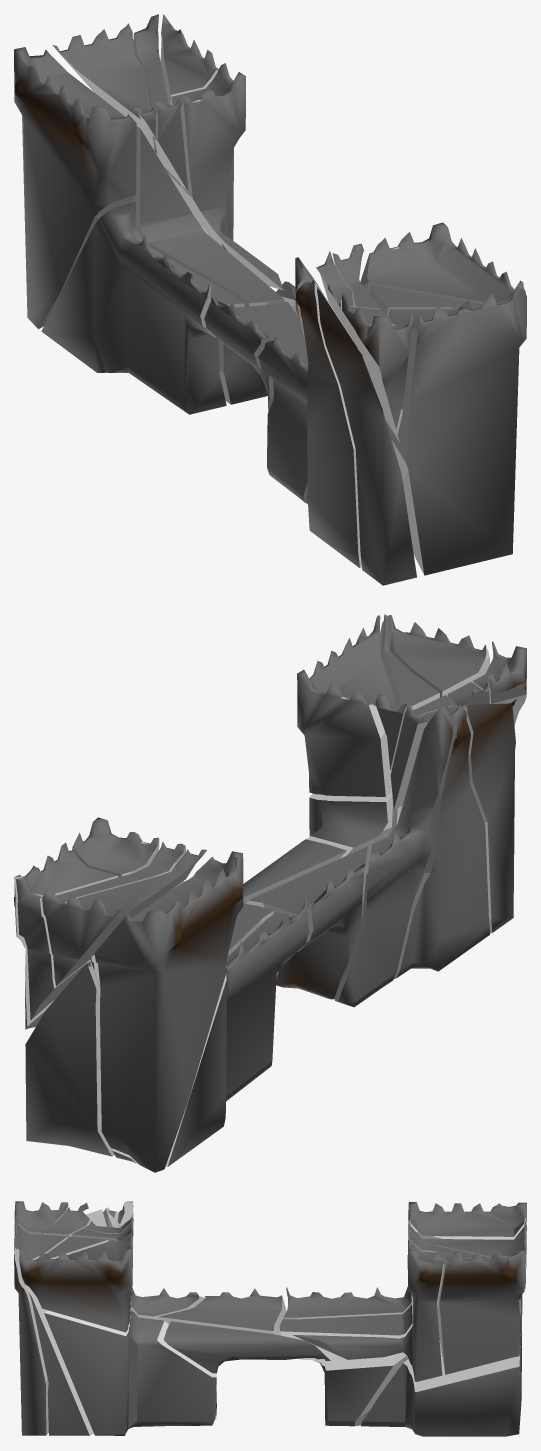
The model's file is Medieval Walls.glb.
3 views of the same model, one above another, from view 1: azimuth 30°, elevation 25°; view 2: azimuth 150°, elevation 25°; view 3: azimuth 270°, elevation 25° (orthographic). The views are drawn at different scales.
Visible parts, largest first — view 1: id0.019, id0.010, id0, id0.012, id0.005, id0.002, id0.017, id0.014, id0.018, id0.001, id0.007, id0.011 (+6 smaller); view 2: id0, id0.010, id0.002, id0.018, id0.014, id0.016, id0.007, id0.012, id0.001, id0.011, id0.019, id0.013 (+9 smaller); view 3: id0.013, id0.016, id0.006, id0.014, id0.005, id0.017, id0.019, id0.003, id0.008, id0, id0.007, id0.010 (+7 smaller).
Part boxes in pixels (left/top/right/bottom): id0.019: left=386, top=286, right=526, bottom=575; id0.010: left=41, top=201, right=244, bottom=414; id0: left=14, top=47, right=136, bottom=328; id0.012: left=317, top=286, right=416, bottom=585; id0.005: left=132, top=126, right=284, bottom=404; id0.002: left=295, top=280, right=361, bottom=568; id0.017: left=171, top=63, right=283, bottom=290; id0.014: left=360, top=222, right=525, bottom=303; id0.018: left=258, top=257, right=320, bottom=503; id0.001: left=52, top=23, right=155, bottom=149; id0.007: left=204, top=296, right=308, bottom=411; id0.011: left=133, top=14, right=188, bottom=191; id0: left=94, top=851, right=243, bottom=1172; id0.010: left=112, top=893, right=309, bottom=1166; id0.002: left=394, top=705, right=489, bottom=978; id0.018: left=334, top=705, right=453, bottom=1007; id0.014: left=297, top=615, right=398, bottom=796; id0.016: left=25, top=963, right=114, bottom=1156; id0.007: left=246, top=846, right=367, bottom=999; id0.012: left=462, top=699, right=516, bottom=933; id0.001: left=42, top=849, right=206, bottom=986; id0.011: left=16, top=841, right=185, bottom=1020; id0.019: left=379, top=615, right=489, bottom=697; id0.013: left=276, top=791, right=392, bottom=978; id0.013: left=44, top=1296, right=216, bottom=1435; id0.016: left=361, top=1296, right=521, bottom=1436; id0.006: left=437, top=1251, right=524, bottom=1374; id0.014: left=19, top=1232, right=132, bottom=1332; id0.005: left=279, top=1295, right=412, bottom=1426; id0.017: left=293, top=1235, right=443, bottom=1381; id0.019: left=14, top=1220, right=67, bottom=1435; id0.003: left=163, top=1321, right=330, bottom=1373; id0.008: left=16, top=1236, right=108, bottom=1435; id0: left=408, top=1202, right=526, bottom=1371; id0.007: left=157, top=1288, right=286, bottom=1419; id0.010: left=283, top=1286, right=411, bottom=1319.
Size of the model in its own units: 10.08 by 15.28 by 37.78.
